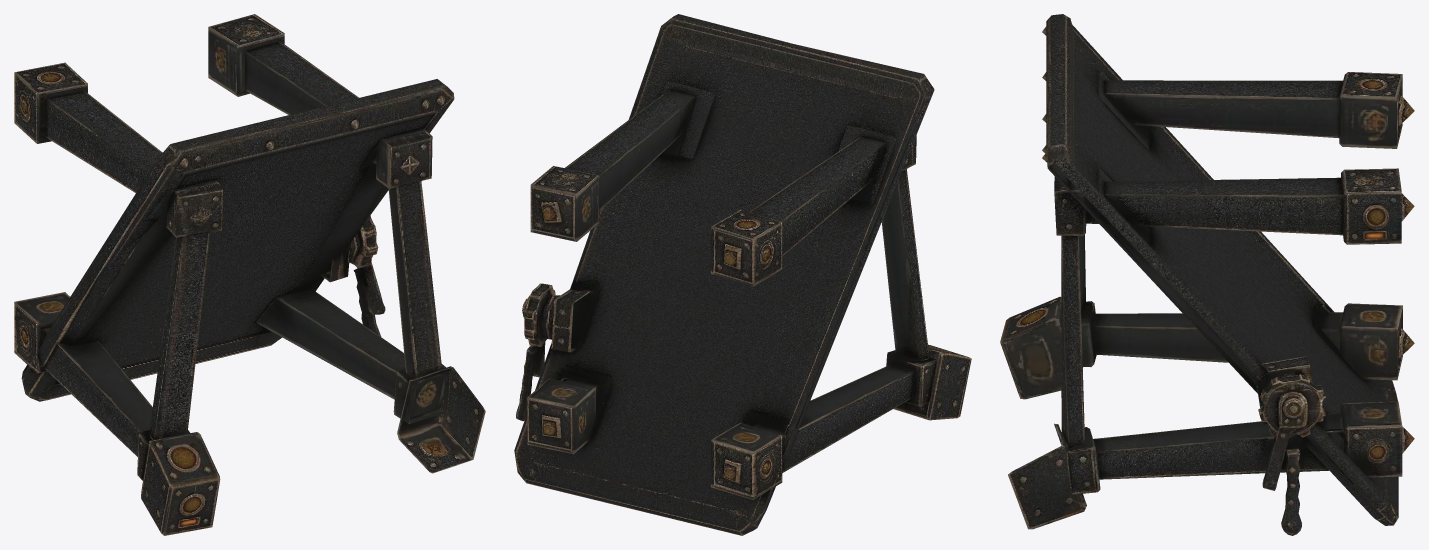
The model's file is ignivar_prop_lift_mount.glb.
3 renders of one model, left to right at view 1: azimuth 30°, elevation 25°; view 2: azimuth 150°, elevation 25°; view 3: azimuth 270°, elevation 25°, orthographic. The views are drawn at different scales.
Visible parts, largest first — view 1: lift_mount; view 2: lift_mount; view 3: lift_mount.
Part boxes in pixels (<box>): lift_mount: <box>14,14,485,535</box>; lift_mount: <box>514,14,971,535</box>; lift_mount: <box>1000,14,1414,535</box>.
Bounding box in the file's own units: 0.9536 × 0.9995 × 0.9761.
Materials: 1 (1 with a texture image).
